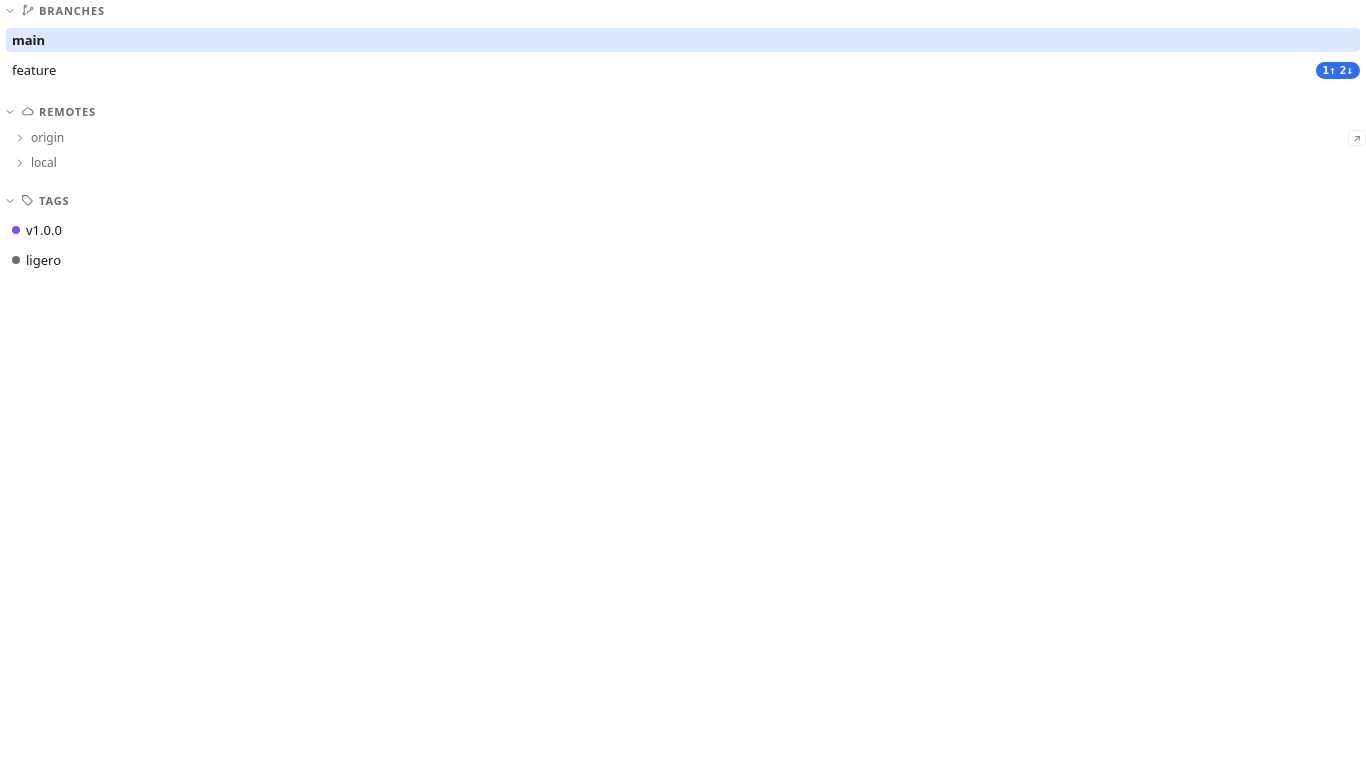
Test: RefsSidebar › creates a branch from the modal and can cancel it
The image size is (1366, 768).
Expected: the button "feature" is shown, [6, 58, 1312, 82]
Step 1. Right-click the button "Branches" → coordinates (72, 10), box [0, 0, 1365, 21]
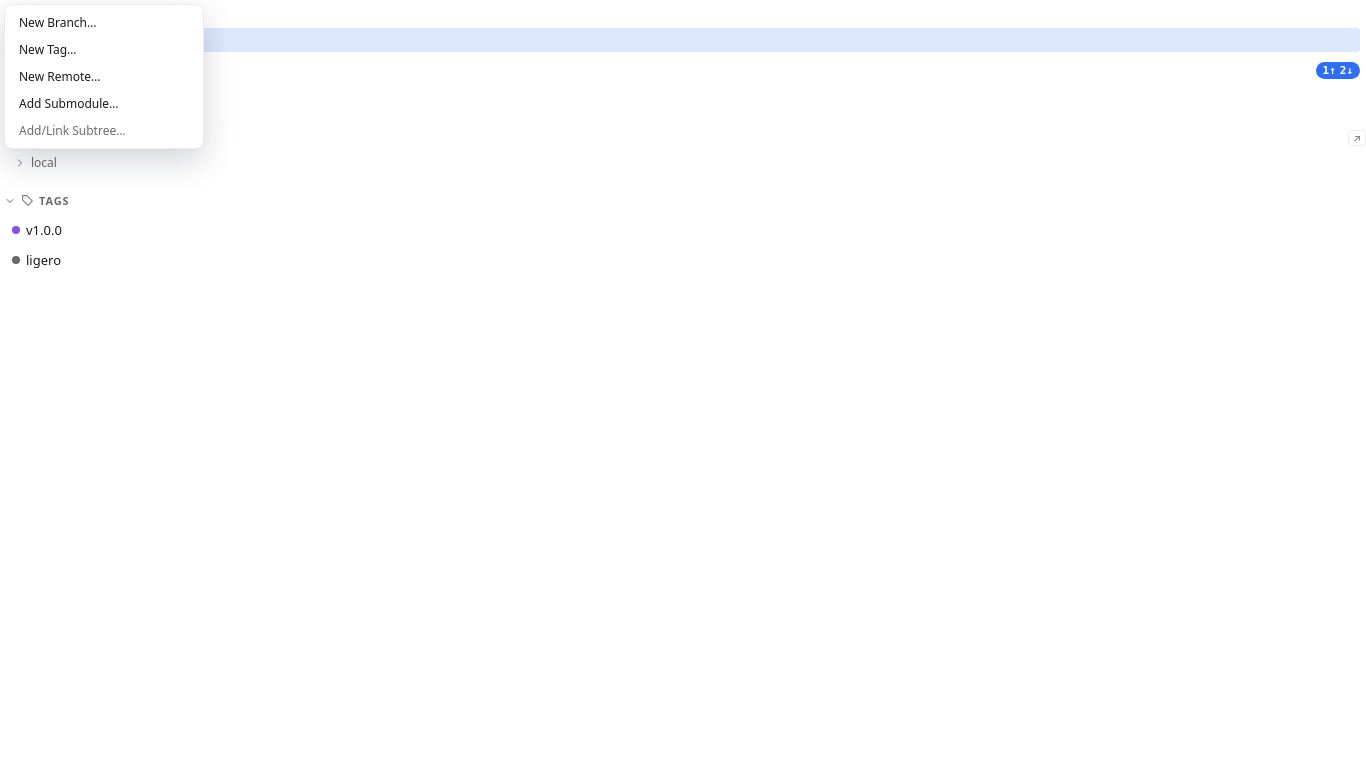
Step 2. Click the menu item "New Branch…" → coordinates (104, 22), box [9, 9, 199, 36]
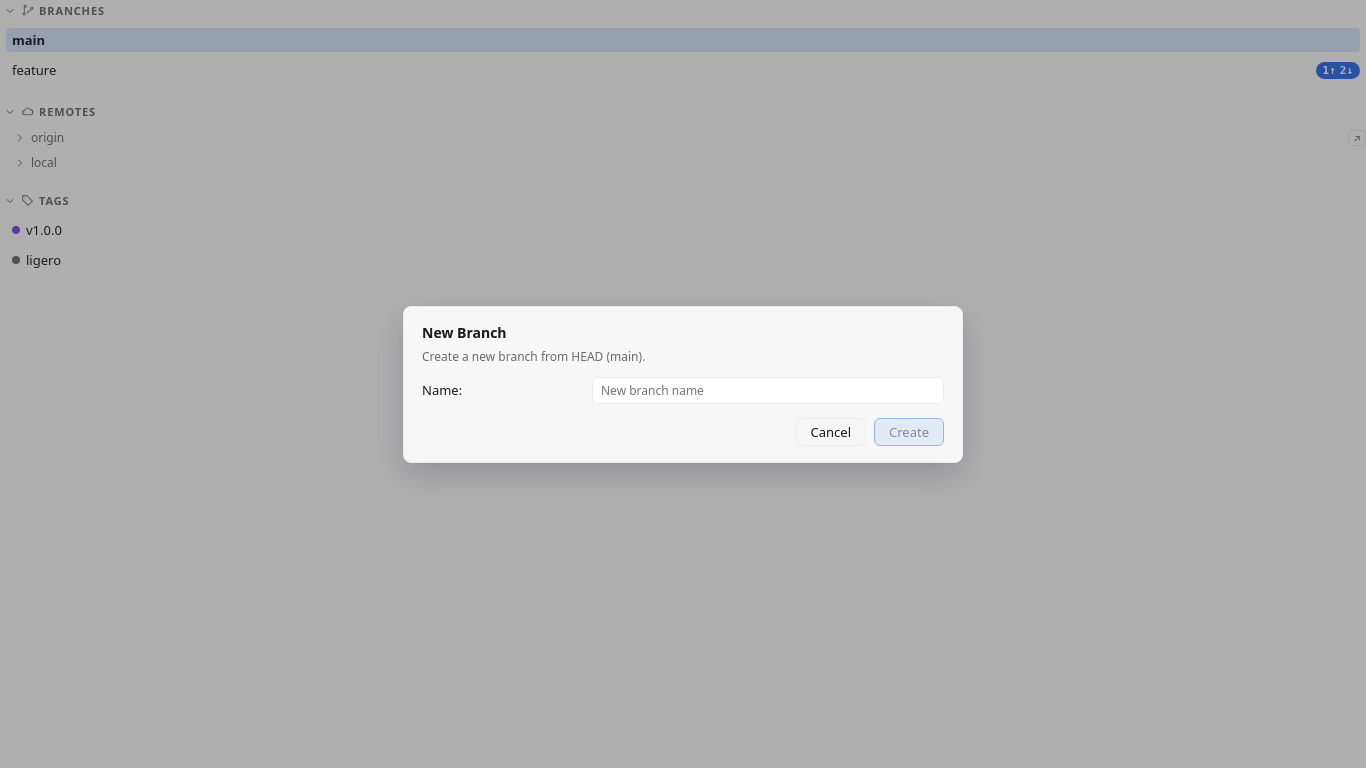
Step 3. Type "nueva" into the field named "New branch name" → coordinates (768, 390), box [592, 376, 944, 404]
Step 4. Click the button "Create" → coordinates (909, 432), box [874, 418, 944, 446]
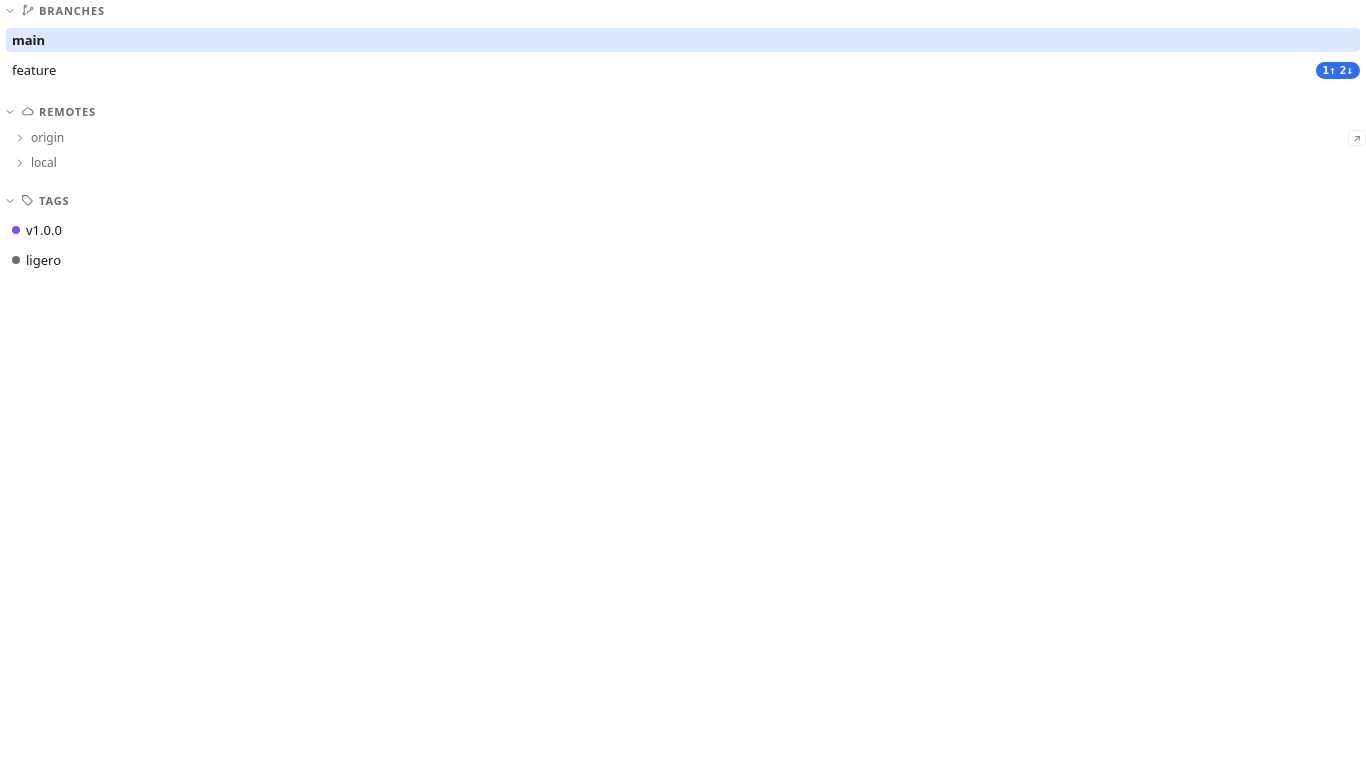
Step 5. Right-click the button "Branches" → coordinates (72, 10), box [0, 0, 1365, 21]
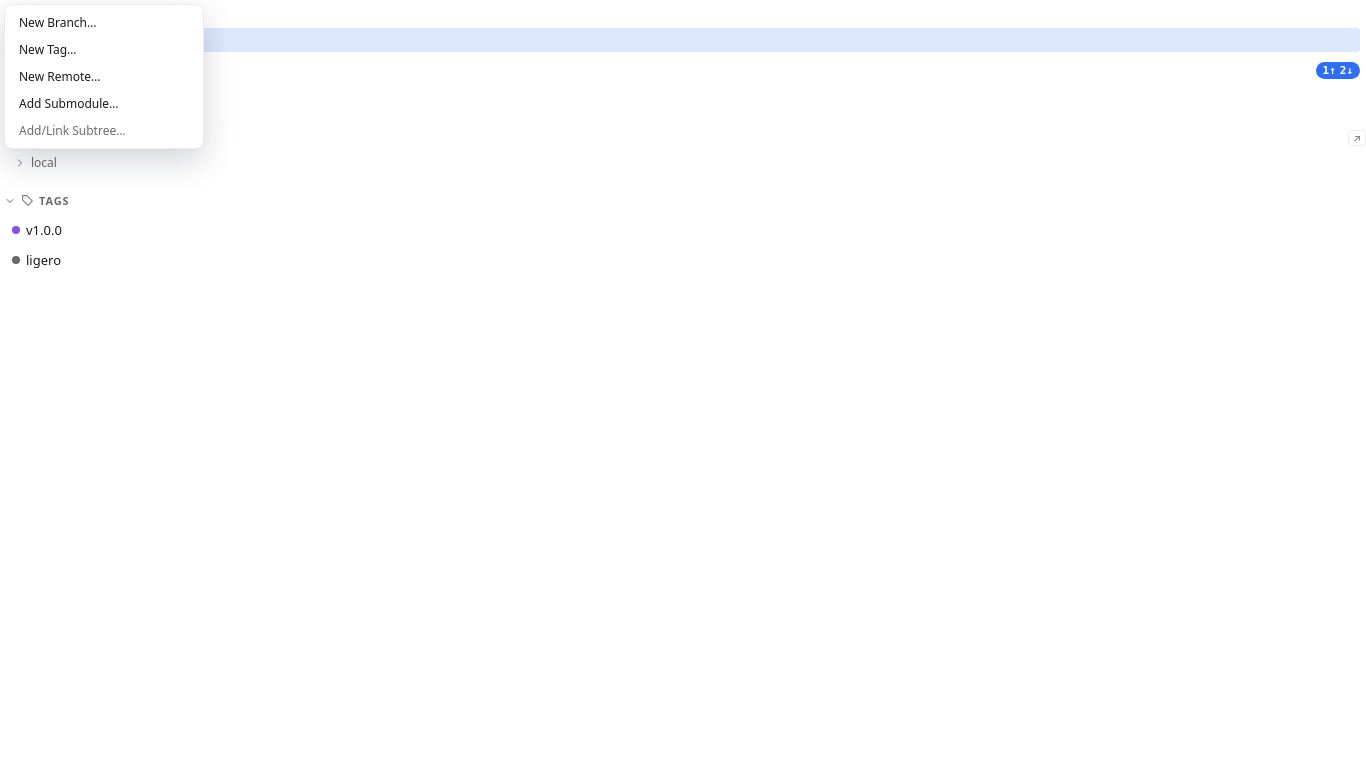
Step 6. Click the menu item "New Branch…" → coordinates (104, 22), box [9, 9, 199, 36]
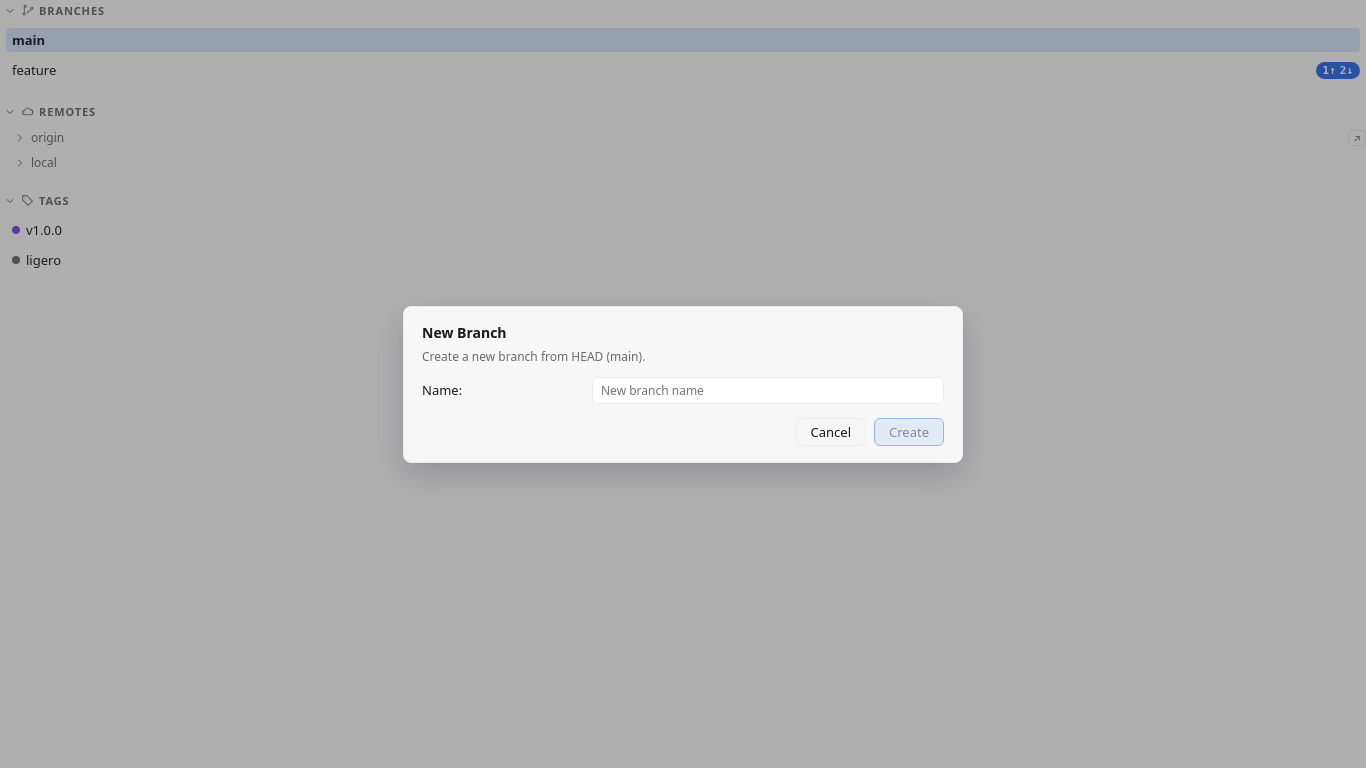
Expected: the dialog "New Branch" is shown, [403, 306, 963, 462]
Step 7. Click the button "Cancel" → coordinates (831, 432), box [796, 418, 866, 446]
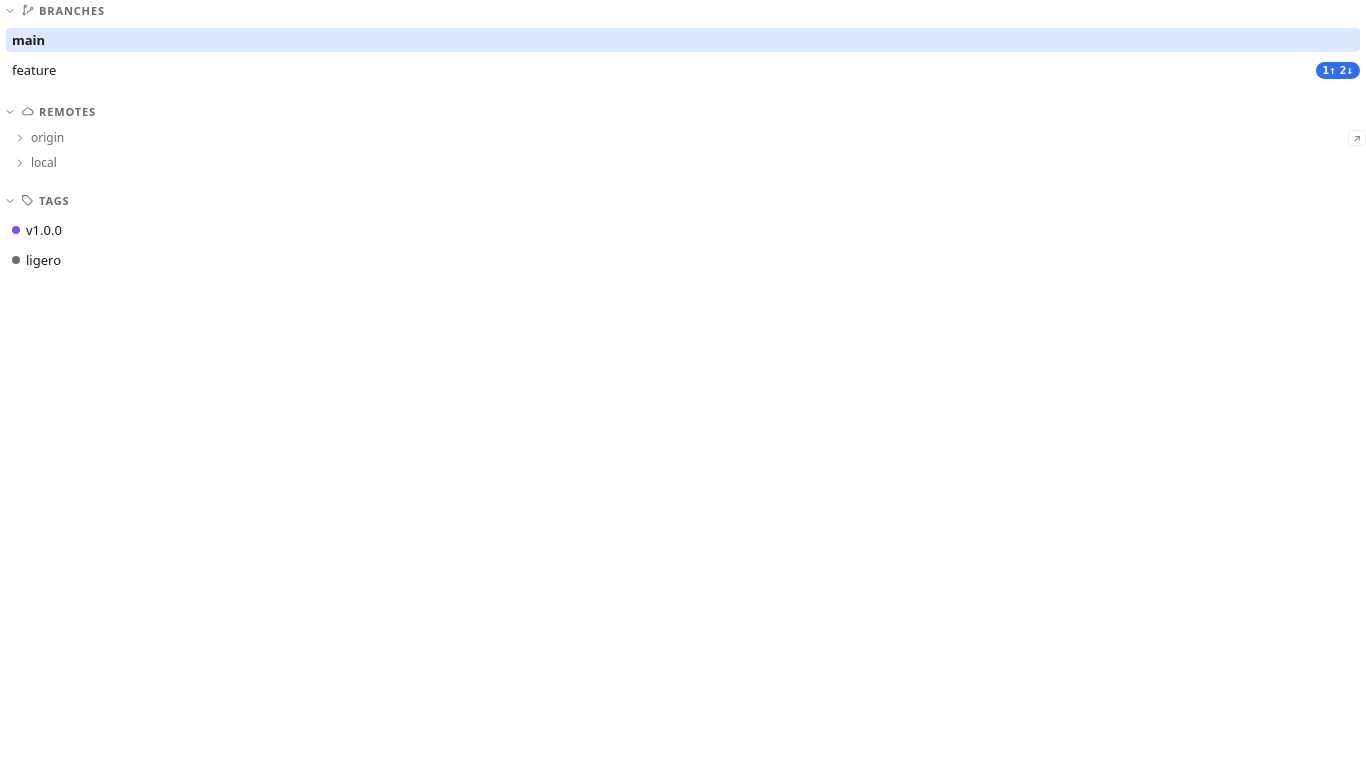
Expected: the heading "New Branch" is gone
